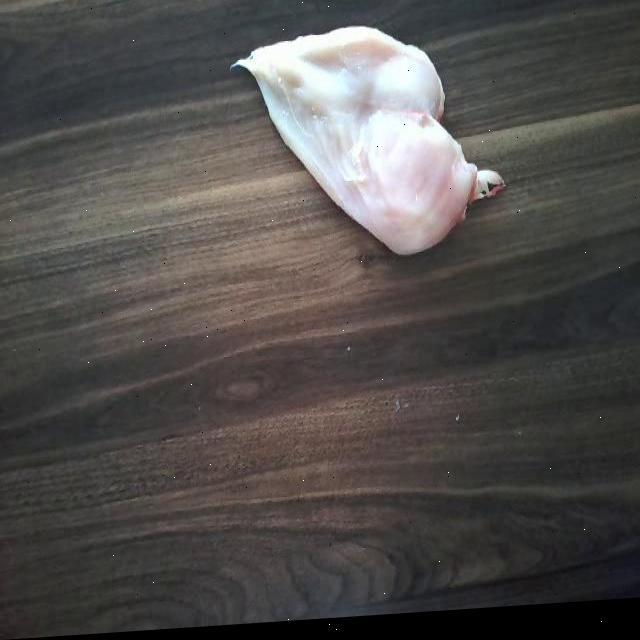breast: (240, 34, 488, 260)
